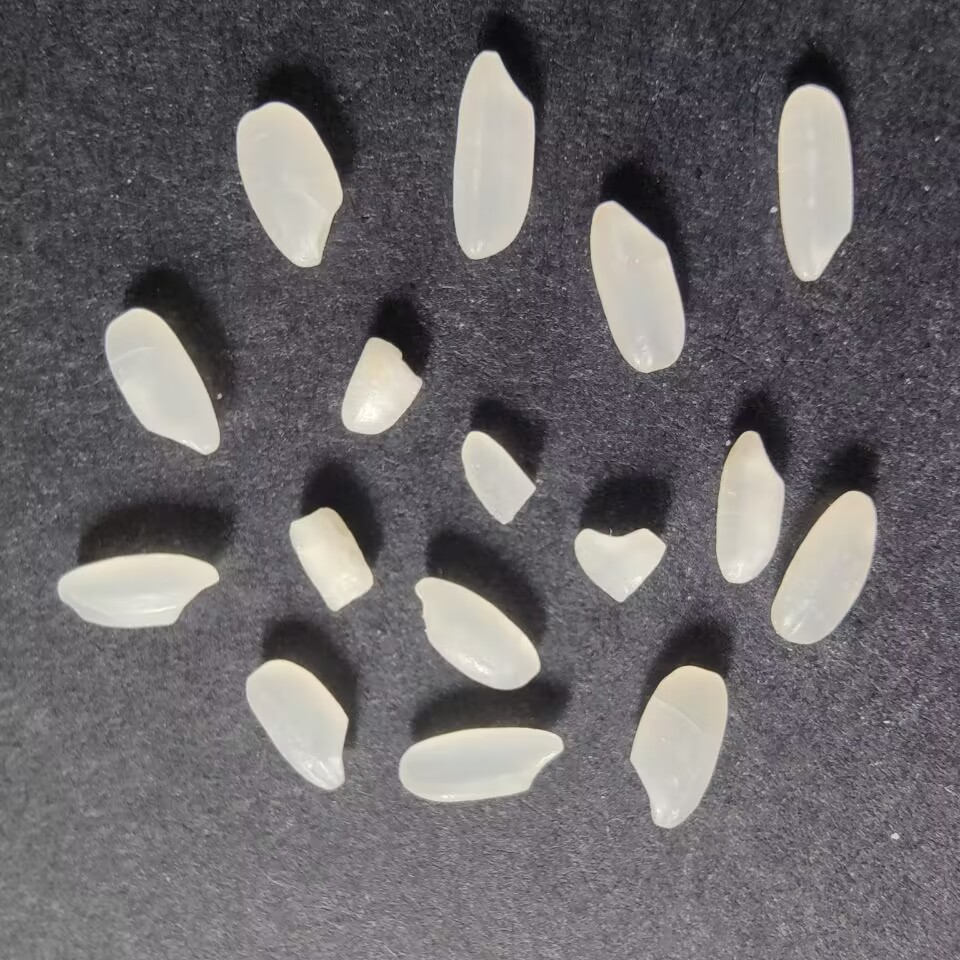broken: (330, 328, 429, 439), (283, 504, 378, 616), (453, 425, 540, 531), (570, 520, 668, 607)
rice: (234, 97, 350, 274), (450, 41, 538, 264), (623, 662, 734, 834), (587, 194, 692, 374), (102, 302, 222, 459), (767, 486, 883, 646), (776, 79, 860, 288), (237, 657, 358, 797), (408, 572, 545, 692), (49, 548, 223, 632), (397, 724, 568, 807), (710, 428, 789, 588)
